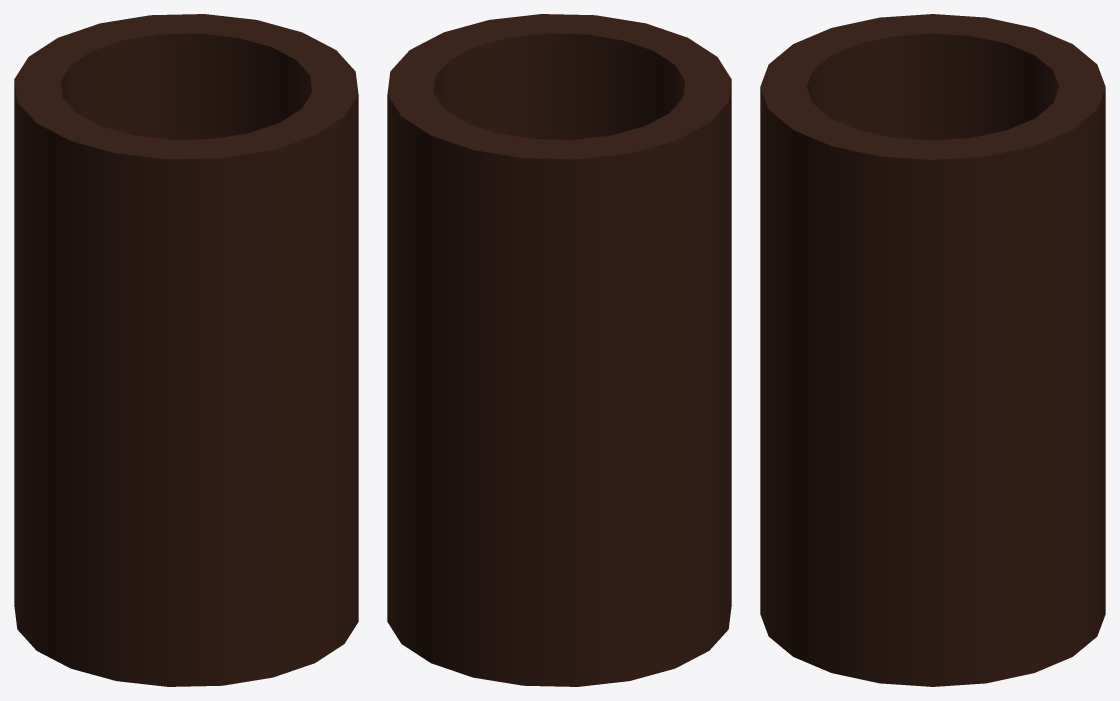
File: Tunnel.fbx
3 renders of one model, left to right at view 1: azimuth 30°, elevation 25°; view 2: azimuth 150°, elevation 25°; view 3: azimuth 270°, elevation 25°, orthographic.
Visible parts, largest first — view 1: pPipe1; view 2: pPipe1; view 3: pPipe1.
Part boxes in pixels (x1,y1,x2,y2): pPipe1: (14, 14, 358, 686); pPipe1: (387, 14, 731, 686); pPipe1: (760, 14, 1105, 686).
Size of the model in its own units: 7.45 by 12.53 by 7.45.
